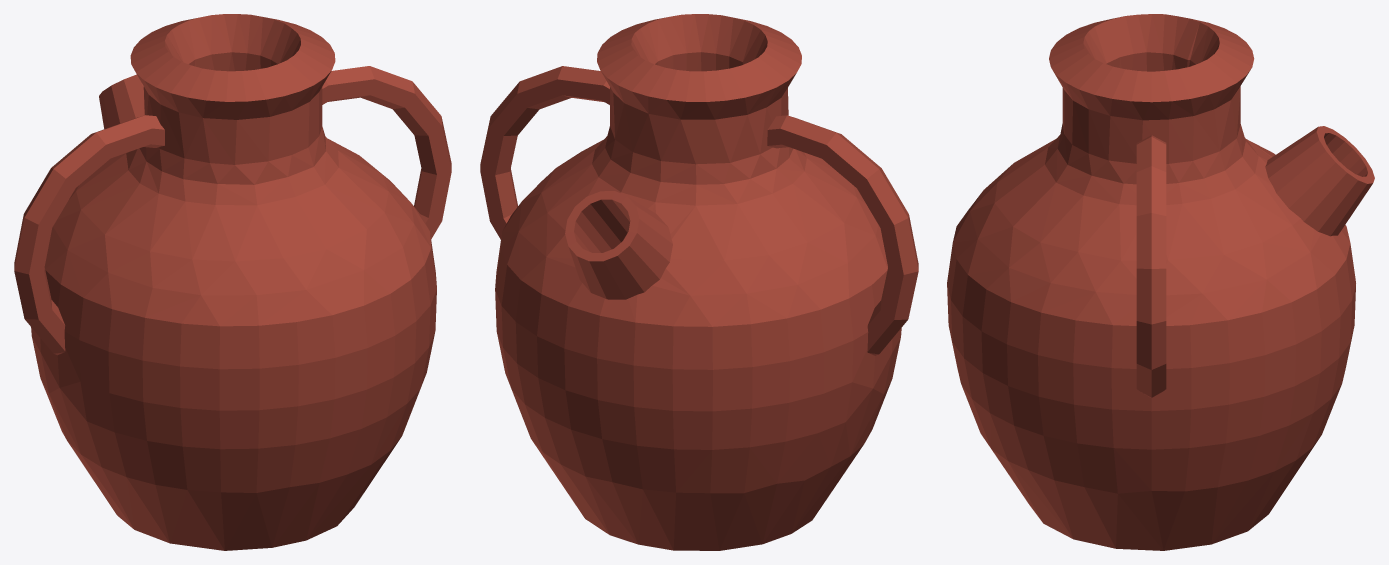
Rendered from Pottery 5_3b.fbx.
3 renders of one model, left to right at view 1: azimuth 30°, elevation 25°; view 2: azimuth 150°, elevation 25°; view 3: azimuth 270°, elevation 25°, orthographic.
Visible parts, largest first — view 1: Pottery 5_3b.005, Pottery 5_3b.006, Pottery 5_3b.003, Pottery 5_3b.004, Pottery 5_3b, Pottery 5_3b.008, Pottery 5_3b.001; view 2: Pottery 5_3b.003, Pottery 5_3b.001, Pottery 5_3b, Pottery 5_3b.004, Pottery 5_3b.007, Pottery 5_3b.006, Pottery 5_3b.005; view 3: Pottery 5_3b.004, Pottery 5_3b.001, Pottery 5_3b.007, Pottery 5_3b, Pottery 5_3b.006, Pottery 5_3b.003, Pottery 5_3b.005, Pottery 5_3b.008.
Part boxes in pixels (x1=…): Pottery 5_3b.005: x1=108, y1=65, x2=306, y2=492; Pottery 5_3b.006: x1=235, y1=55, x2=416, y2=438; Pottery 5_3b.003: x1=14, y1=35, x2=190, y2=392; Pottery 5_3b.004: x1=245, y1=14, x2=451, y2=434; Pottery 5_3b: x1=32, y1=337, x2=399, y2=550; Pottery 5_3b.008: x1=257, y1=363, x2=414, y2=507; Pottery 5_3b.001: x1=99, y1=14, x2=250, y2=161; Pottery 5_3b.003: x1=673, y1=46, x2=918, y2=408; Pottery 5_3b.001: x1=507, y1=50, x2=737, y2=406; Pottery 5_3b: x1=531, y1=327, x2=900, y2=550; Pottery 5_3b.004: x1=480, y1=14, x2=701, y2=239; Pottery 5_3b.007: x1=495, y1=232, x2=601, y2=476; Pottery 5_3b.006: x1=694, y1=14, x2=779, y2=71; Pottery 5_3b.005: x1=742, y1=25, x2=901, y2=334; Pottery 5_3b.004: x1=981, y1=59, x2=1266, y2=493; Pottery 5_3b.001: x1=1187, y1=22, x2=1374, y2=357; Pottery 5_3b.007: x1=1151, y1=280, x2=1353, y2=491; Pottery 5_3b: x1=1006, y1=438, x2=1319, y2=550; Pottery 5_3b.006: x1=947, y1=31, x2=1106, y2=398; Pottery 5_3b.003: x1=1125, y1=14, x2=1221, y2=71; Pottery 5_3b.005: x1=958, y1=16, x2=1133, y2=224; Pottery 5_3b.008: x1=961, y1=373, x2=1027, y2=481.
Size of the model in its own units: 65.52 by 65.33 by 55.48.
